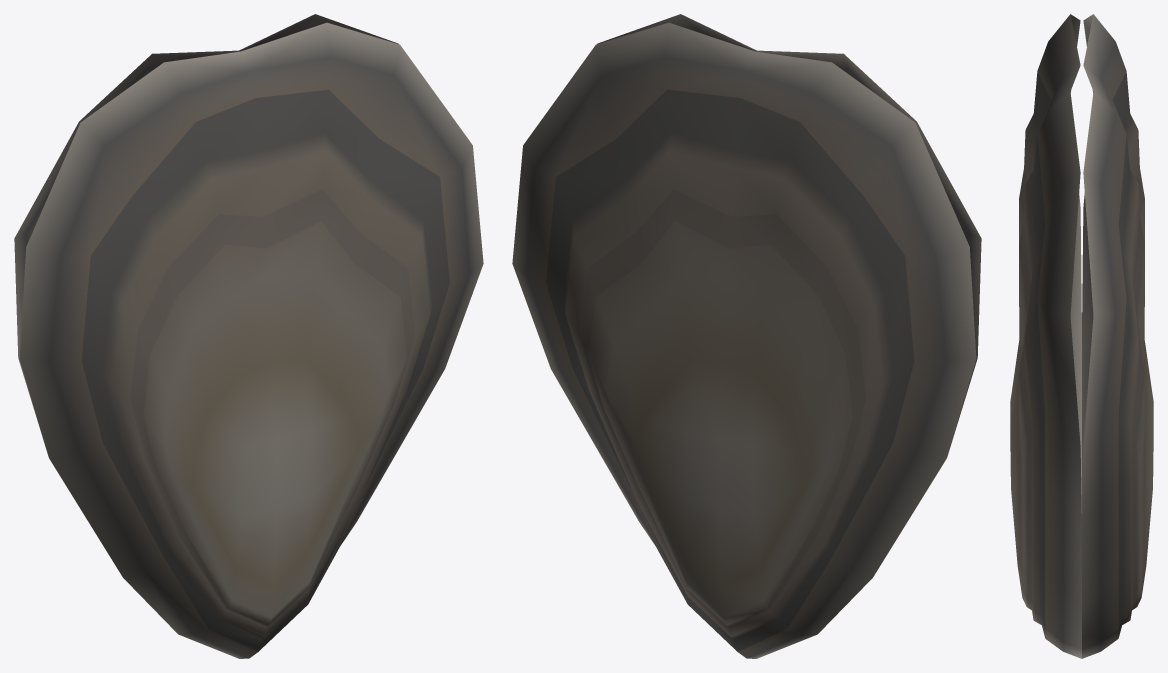
3 views of the same model, side by side, from view 1: azimuth 30°, elevation 25°; view 2: azimuth 150°, elevation 25°; view 3: azimuth 270°, elevation 25° (orthographic). The views are drawn at different scales.
Parts seen in each view (by area): view 1: alt3.343; view 2: alt3.343; view 3: alt3.343.
Boxes of the visible parts, box(x1,y1,x2,y2) form: alt3.343: box(14, 14, 483, 658); alt3.343: box(512, 14, 981, 658); alt3.343: box(1010, 14, 1153, 658).
Size of the model in its own units: 0.3911 by 0.5 by 0.1072.
